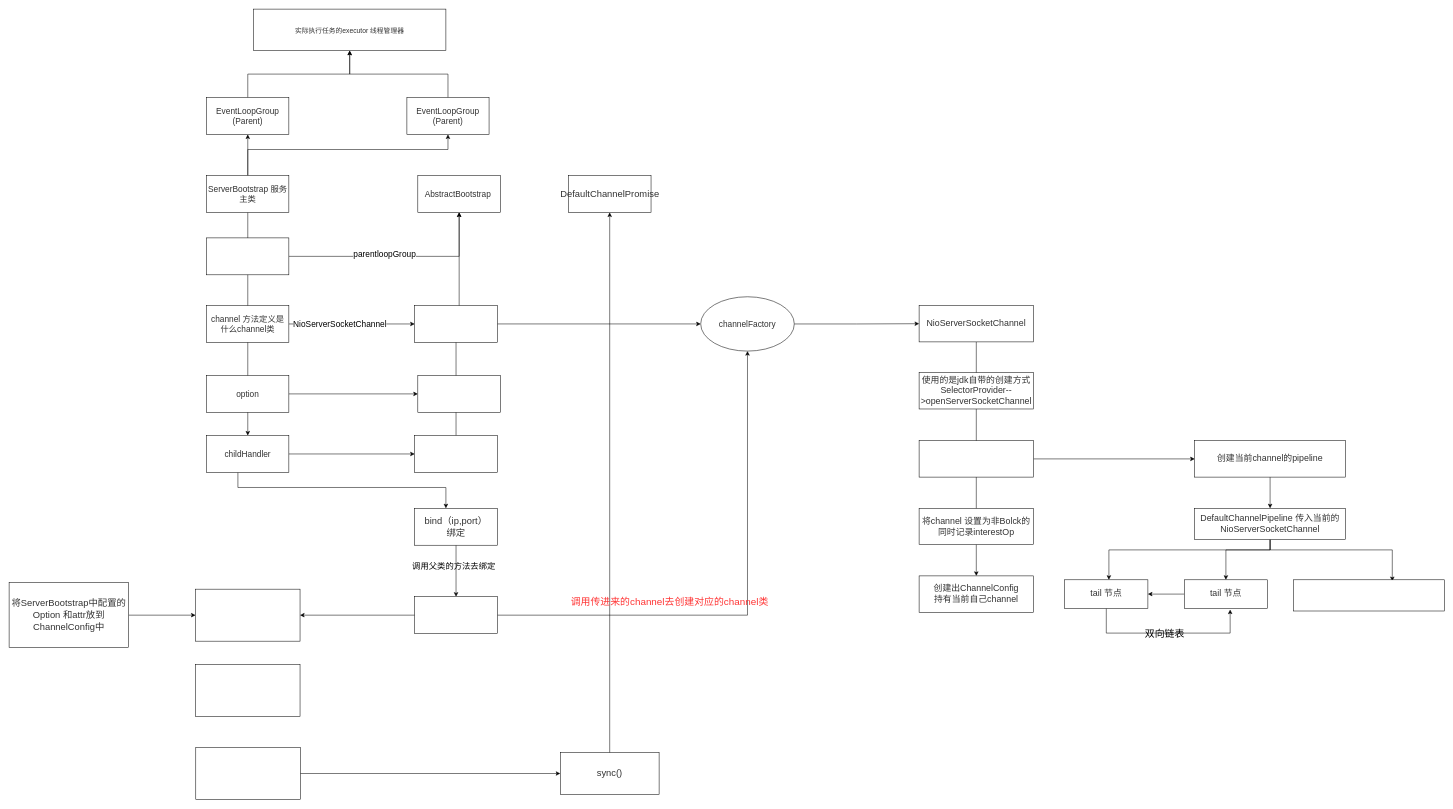
Image size: 1453x809. Some labels were removed from this diagram. Here are the shapes that lost their labels. From the top down, the box of each, then its label:
(206, 237, 289, 275): group 方法将 loopGroup放入
(414, 305, 497, 342): ReflectiveChannelFactory 定义创建什么样的channel
(417, 375, 500, 412): 定义options 类型
(414, 435, 497, 472): 定义ChannelHandler
(919, 440, 1034, 477): 定义为OP_ACCEPT接受的socket parent为null
(195, 589, 300, 641): init() 将开始创建出来的option设置到channelConfig中
(414, 596, 497, 634): initAndRegister()
(1293, 579, 1444, 611): 创建对应的成功future 和promise 根据 传进来的channel
(195, 664, 300, 716): ChannelInitializer 将此init 类添加到最后的head 和tail 的中间 判断是否重复注册
(195, 747, 300, 800): 将channel 注册到childEventLoop 中通过死循环检测handler中是否有注册新的执行器
